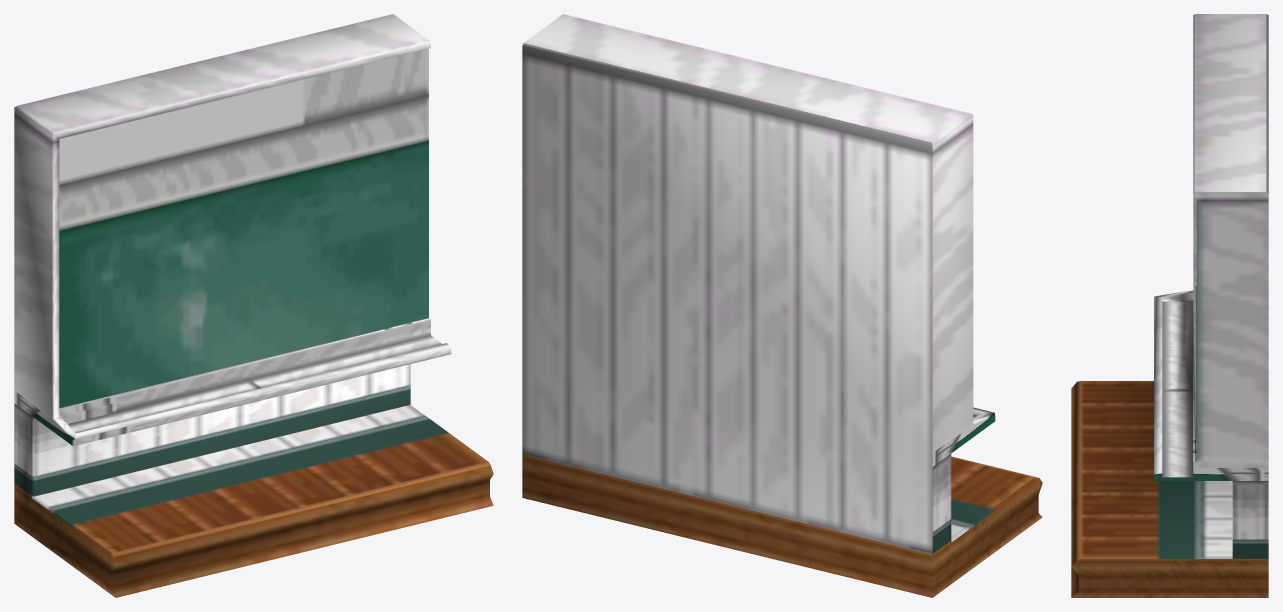
Rendered from int_sch_platformL.dae.
3 renders of one model, left to right at view 1: azimuth 30°, elevation 25°; view 2: azimuth 150°, elevation 25°; view 3: azimuth 270°, elevation 25°, orthographic. The views are drawn at different scales.
Parts seen in each view (by area): view 1: int_sch_platformL; view 2: int_sch_platformL; view 3: int_sch_platformL.
Boxes of the visible parts, box(x1,y1,x2,y2) form: int_sch_platformL: box(14, 14, 493, 597); int_sch_platformL: box(522, 14, 1042, 597); int_sch_platformL: box(1071, 14, 1268, 597).
Size of the model in its own units: 59.1 by 62.5 by 27.5.
Materials: 2 (2 with a texture image).
